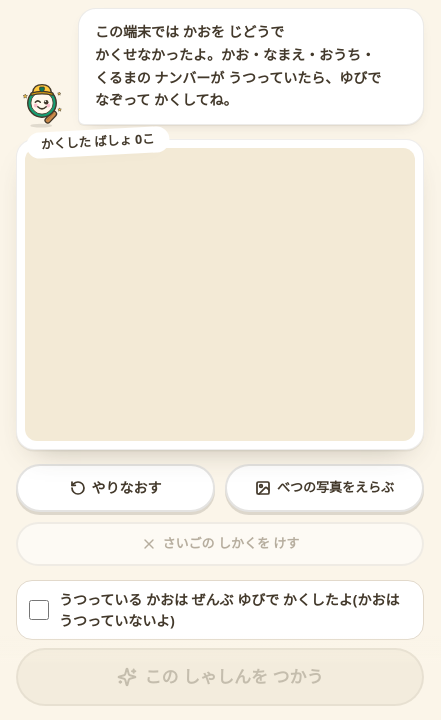
it: MaskConfirm の顔の自動検出(UIUX改装 項目57) › この端末で顔を自動でさがせないときは、そう知らせ、ゆびで隠したと確かめるまで進めない
Expected: the text "かおを じどうで かくせなかったよ" is shown, [95,22,375,86]
Expected: the button "この しゃしんを つかう" is disabled, [16,648,424,706]
Click the checkbox labelled "うつっている かおは ぜんぶ ゆびで かくしたよ(かおは うつっていないよ)": (39, 610) [29,600,49,620]
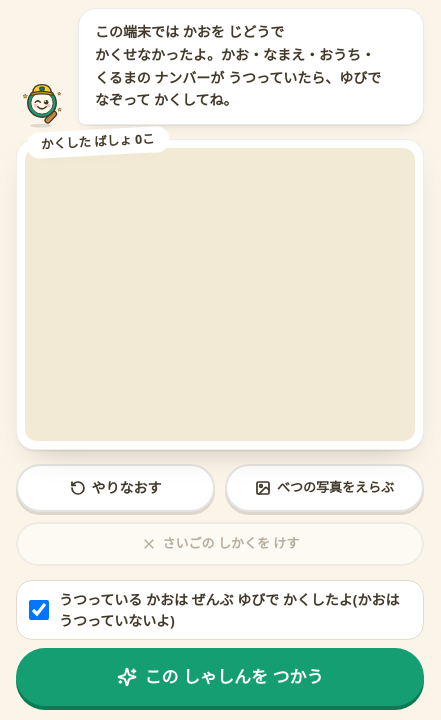
Result: the button "この しゃしんを つかう" is enabled at [16,648,424,706]
